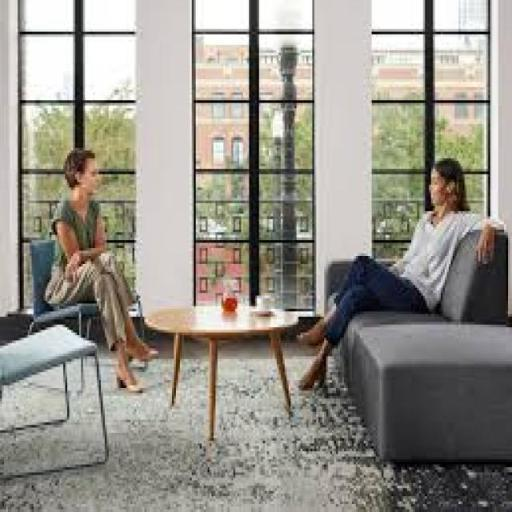sofa: (341, 200, 512, 497)
